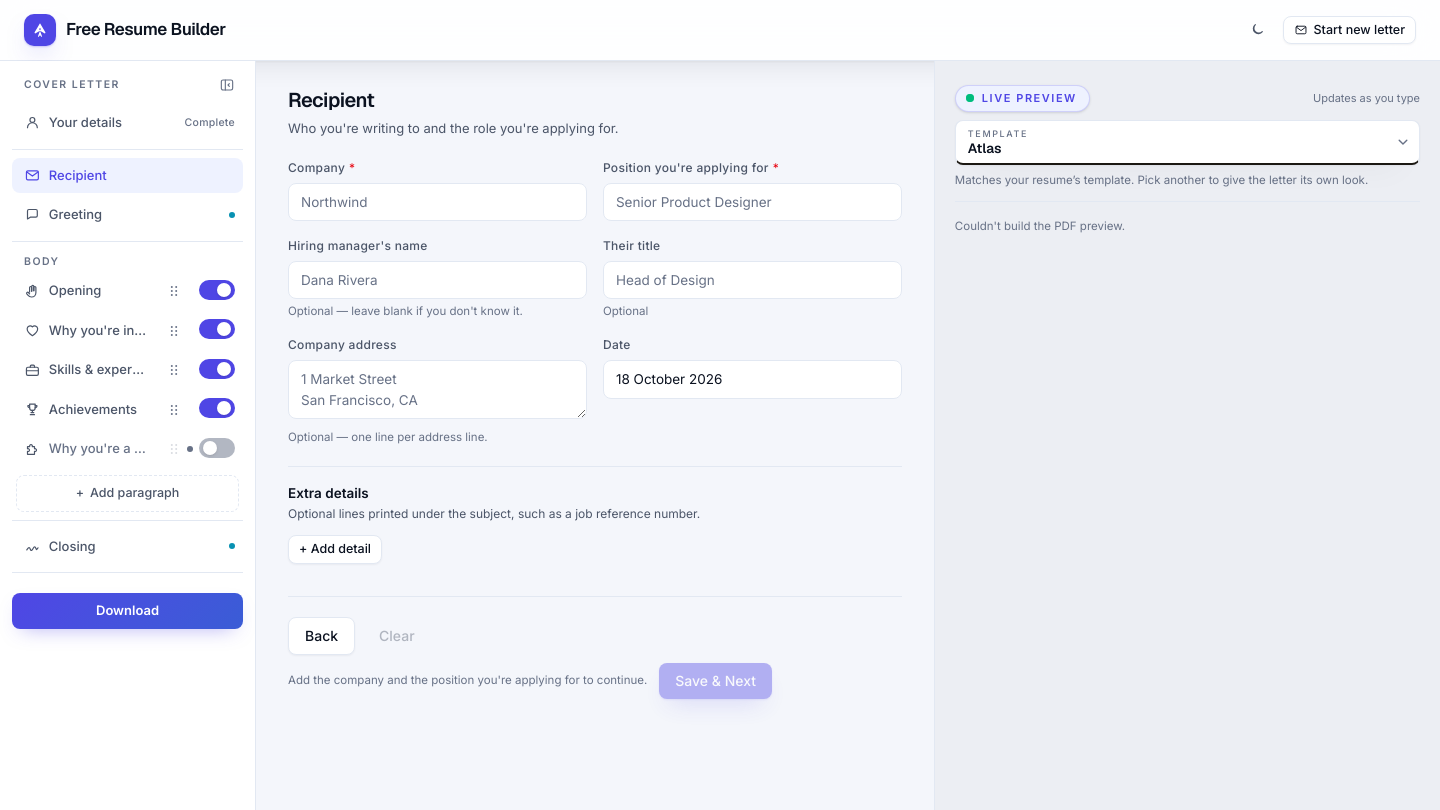
CoverLetterShell › shows an Include button on a switched-off paragraph
Check: the heading "Recipient" is shown, box [288,87,374,113]
Click the button "Why you're a good fit".
click(86, 449)  # box [12,431,159,467]
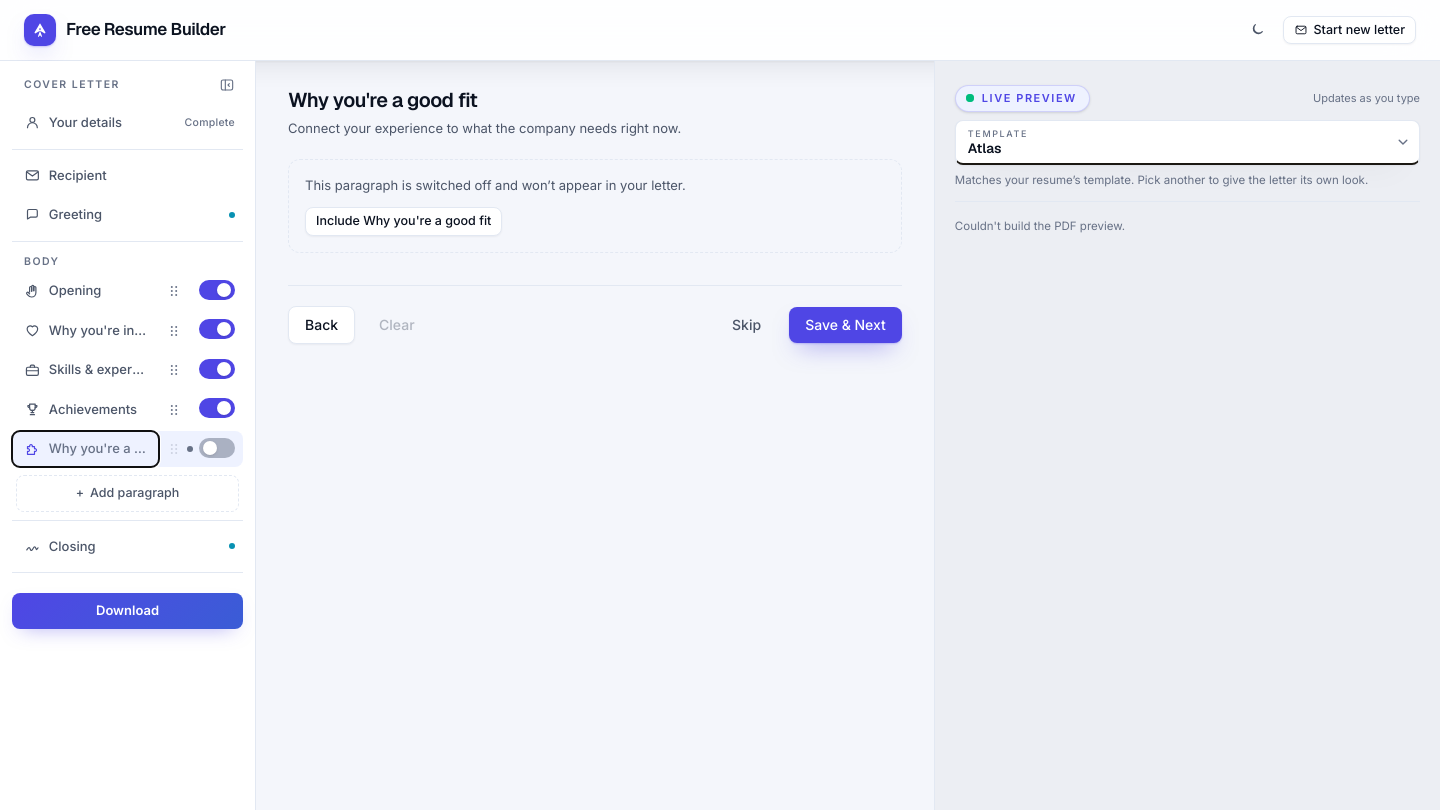
Click the button "Include Why you're a good fit".
click(404, 221)  # box [305,207,502,236]
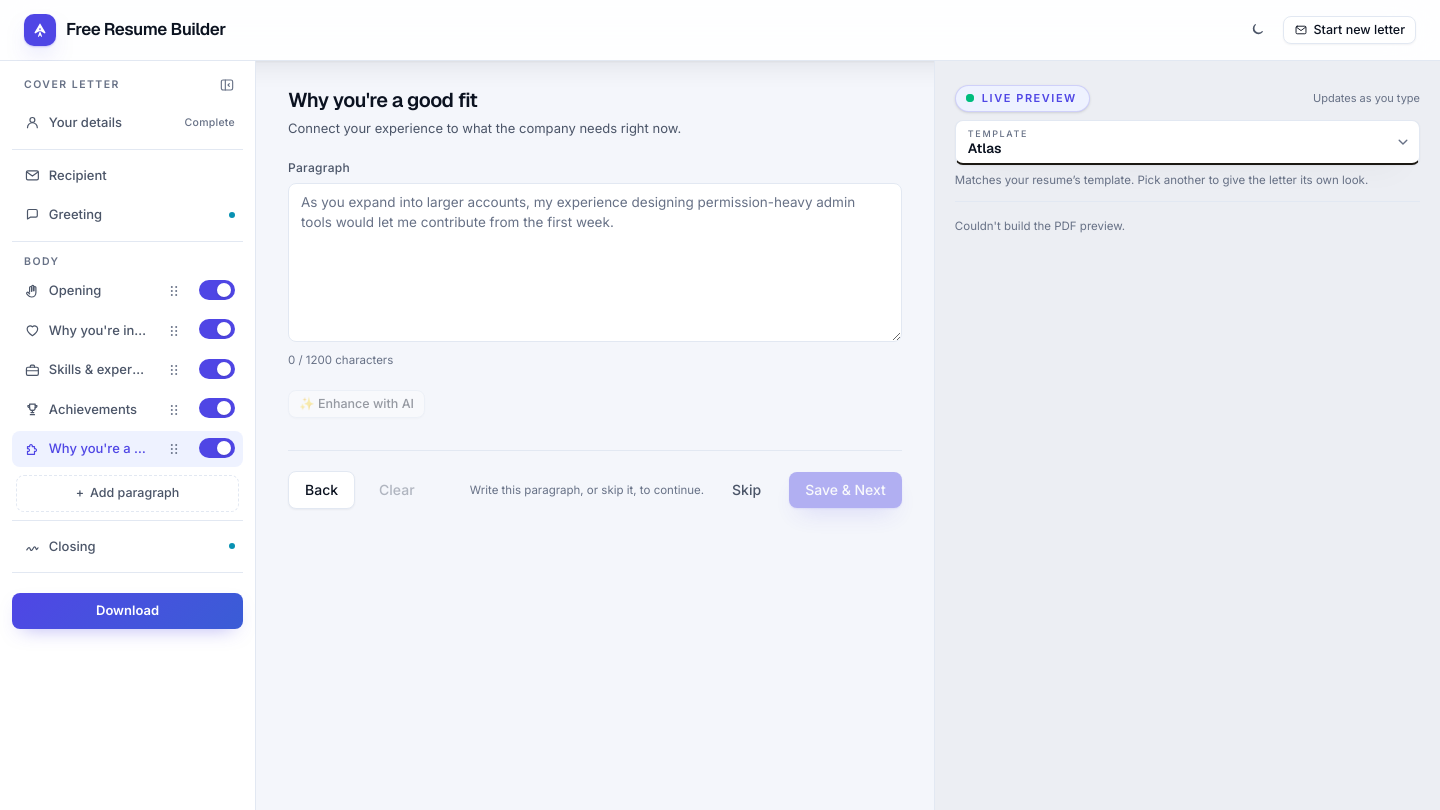
Check: the text box labelled "Paragraph" is shown, box [288,182,902,342]
